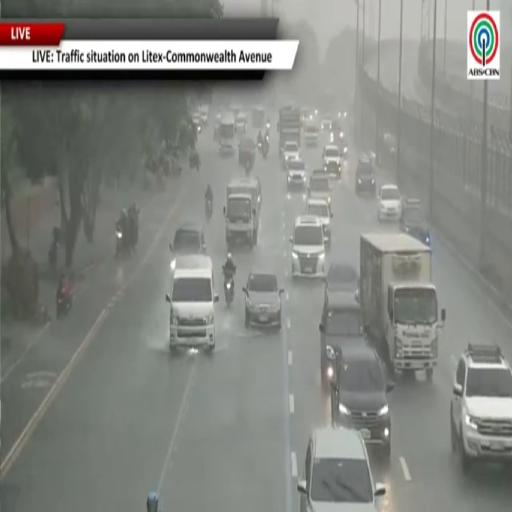car: (450, 344, 511, 472), (297, 426, 385, 511), (331, 344, 394, 462), (166, 255, 218, 354), (319, 292, 366, 386), (243, 271, 284, 328), (291, 216, 325, 277), (170, 221, 206, 269), (400, 199, 431, 246), (227, 176, 262, 214), (325, 262, 359, 301), (305, 199, 333, 246), (355, 155, 376, 197), (378, 185, 401, 221), (308, 173, 331, 204), (331, 119, 348, 158), (322, 144, 341, 178), (287, 159, 306, 190), (282, 141, 300, 169), (304, 121, 318, 146), (383, 133, 396, 154), (236, 112, 247, 133), (192, 112, 202, 133), (199, 104, 209, 124), (321, 115, 332, 132), (229, 104, 241, 117), (301, 108, 312, 121)
motorcycle: (115, 223, 131, 259), (57, 286, 73, 317), (224, 277, 234, 306), (206, 198, 212, 219), (245, 158, 252, 175), (262, 141, 269, 158), (257, 141, 263, 152)
truck: (360, 233, 446, 379), (278, 106, 301, 151)
